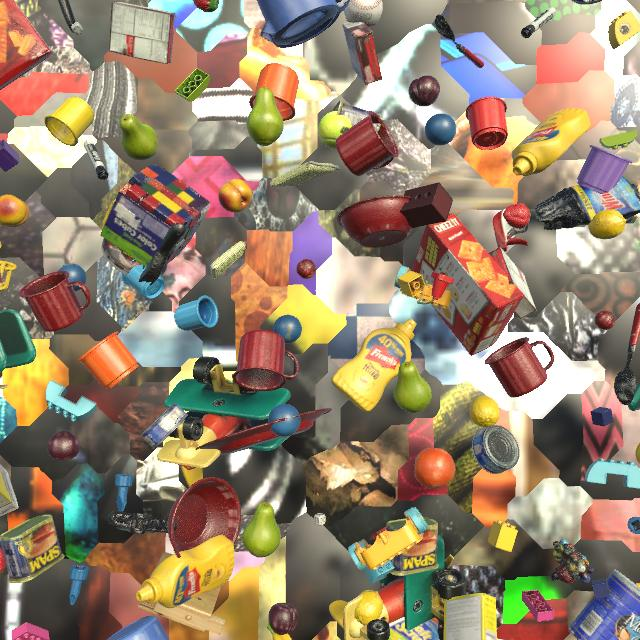ycb_002_master_chef_can: (568, 569, 640, 640), (572, 0, 602, 5)
ycb_003_cracker_box: (411, 213, 524, 356), (0, 0, 53, 90)
ycb_004_sugar_box: (444, 593, 497, 640), (0, 464, 19, 517)
ycb_005_tomato_soup_can: (0, 271, 3, 283)
ycb_006_mustard_bottle: (331, 319, 417, 412), (136, 535, 235, 608), (512, 108, 591, 176)
ycb_007_tuna_fish_can: (472, 425, 520, 474), (141, 403, 188, 449)
ycb_008_pudding_box: (109, 1, 176, 64), (489, 247, 537, 319), (342, 22, 382, 85)
ycb_010_potted_meat_can: (0, 514, 65, 583), (386, 517, 439, 576), (333, 100, 383, 132)
ycb_011_banana: (267, 623, 292, 640)
ycb_012_strawberry: (503, 203, 531, 229), (193, 0, 219, 13), (0, 548, 6, 573)
ycb_014_lemon: (588, 209, 627, 239), (354, 590, 383, 626), (469, 395, 500, 427)
ycb_015_peach: (218, 179, 252, 213), (0, 194, 29, 227)
ycb_016_pear: (246, 86, 284, 146), (242, 502, 281, 558), (393, 361, 432, 413), (119, 114, 158, 161)
ycb_017_orange: (414, 448, 455, 489)
ycb_018_plum: (409, 75, 440, 107), (268, 602, 298, 635), (47, 430, 80, 460)
